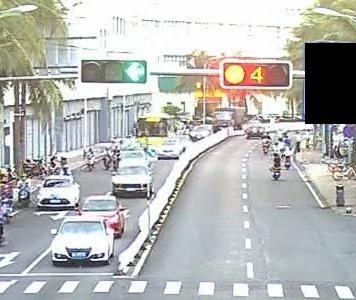greenleft: (124, 61, 145, 82)
red: (223, 63, 245, 85)
redtime: (246, 65, 265, 84)
